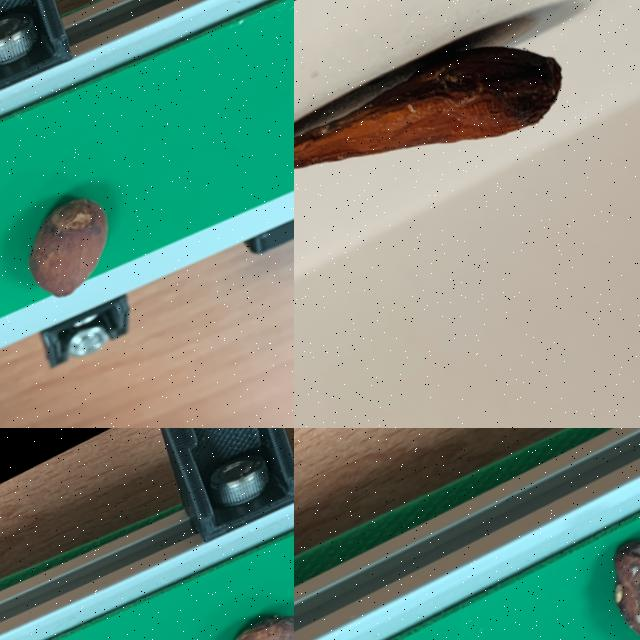Fine_cocoabeans: (0, 146, 151, 352), (123, 536, 293, 639)
Flat_cocoabeans: (294, 0, 639, 302), (463, 447, 639, 639)
